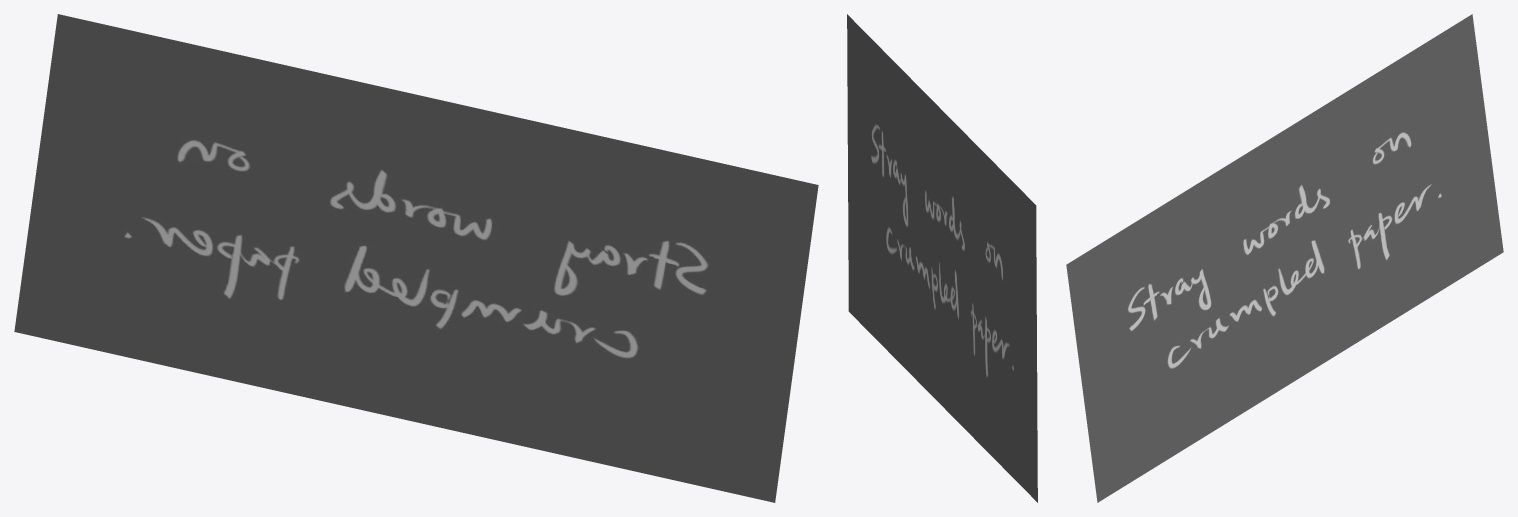
3 views of the same model, side by side, from view 1: azimuth 30°, elevation 25°; view 2: azimuth 150°, elevation 25°; view 3: azimuth 270°, elevation 25° (orthographic). The views are drawn at different scales.
Parts seen in each view (by area): view 1: Plane.010; view 2: Plane.010; view 3: Plane.010.
Part boxes in pixels (box(x1,y1,x2,y2)): Plane.010: box(14, 14, 818, 502); Plane.010: box(847, 14, 1037, 502); Plane.010: box(1066, 14, 1503, 502).
Size of the model in its own units: 1.97 by 1.54 by 1.93.
1 material, 1 textured.
